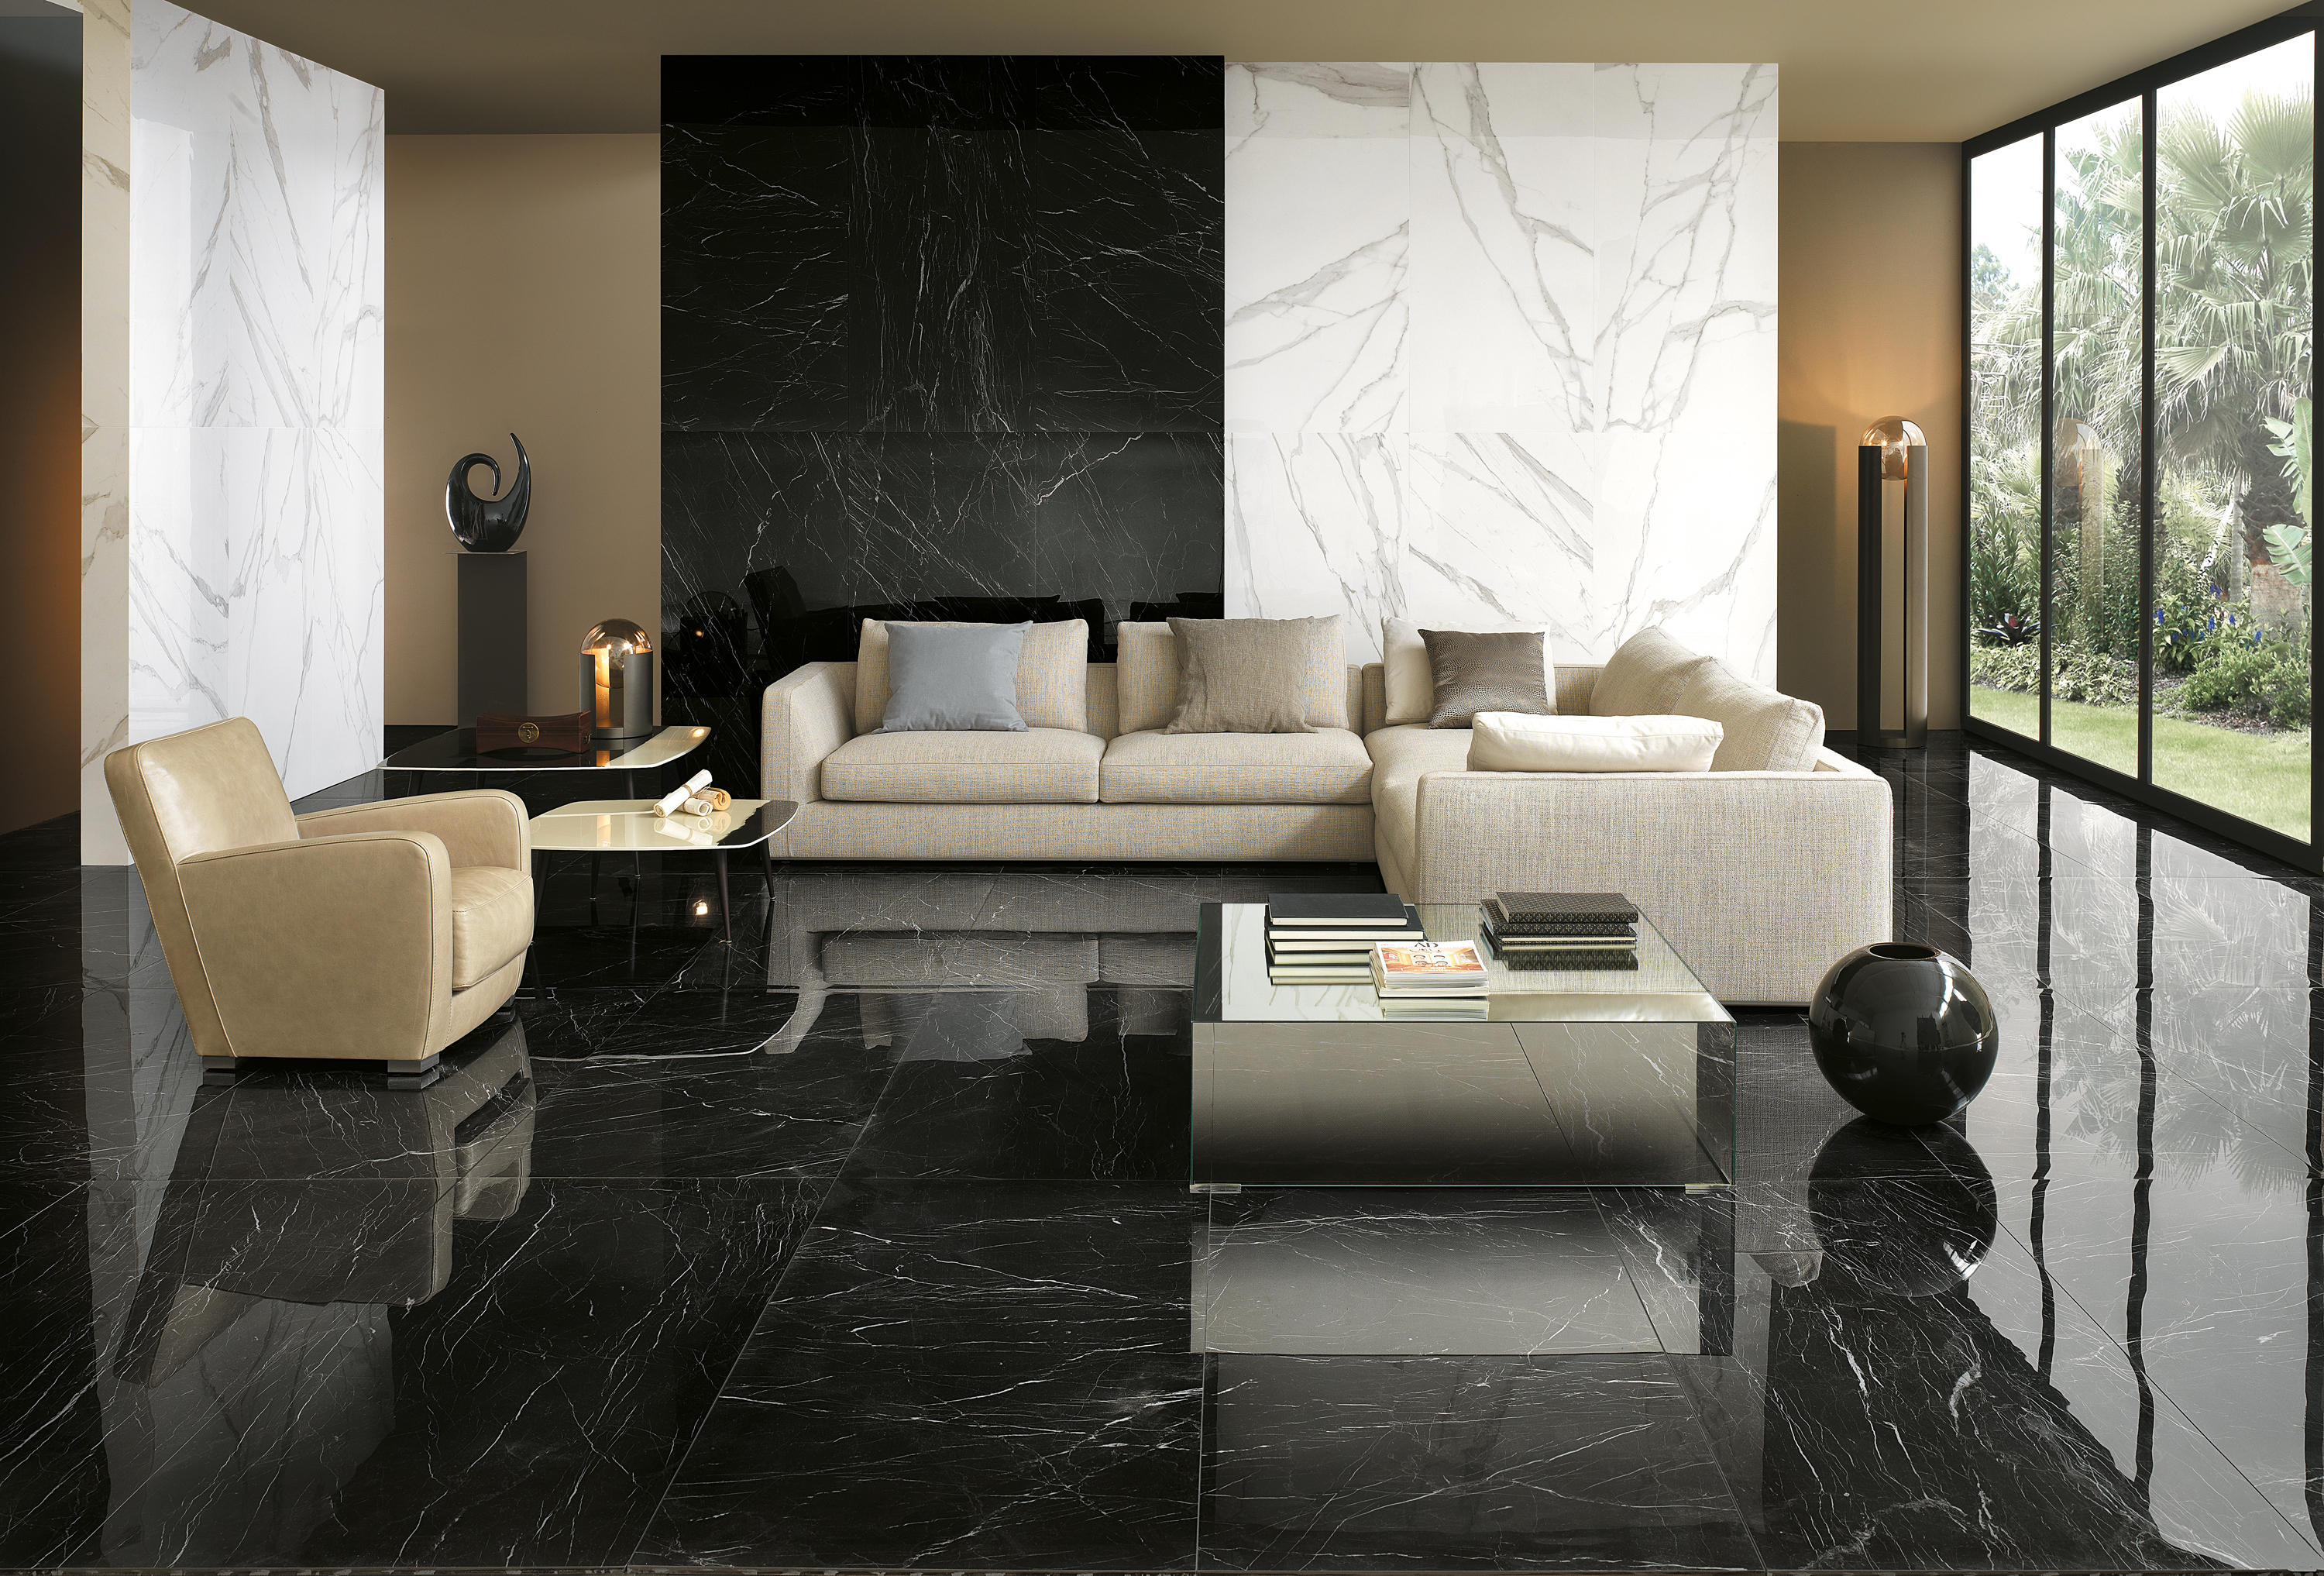bantal: (1169, 617, 1310, 730), (879, 621, 1027, 721), (1426, 628, 1552, 723)
buku: (1260, 892, 1415, 981), (1480, 892, 1642, 976), (1371, 936, 1491, 1003)
kursi: (100, 709, 538, 1075)
meja: (1187, 897, 1754, 1212), (529, 788, 798, 929)
sova: (761, 616, 1373, 874), (1369, 619, 1897, 908)
